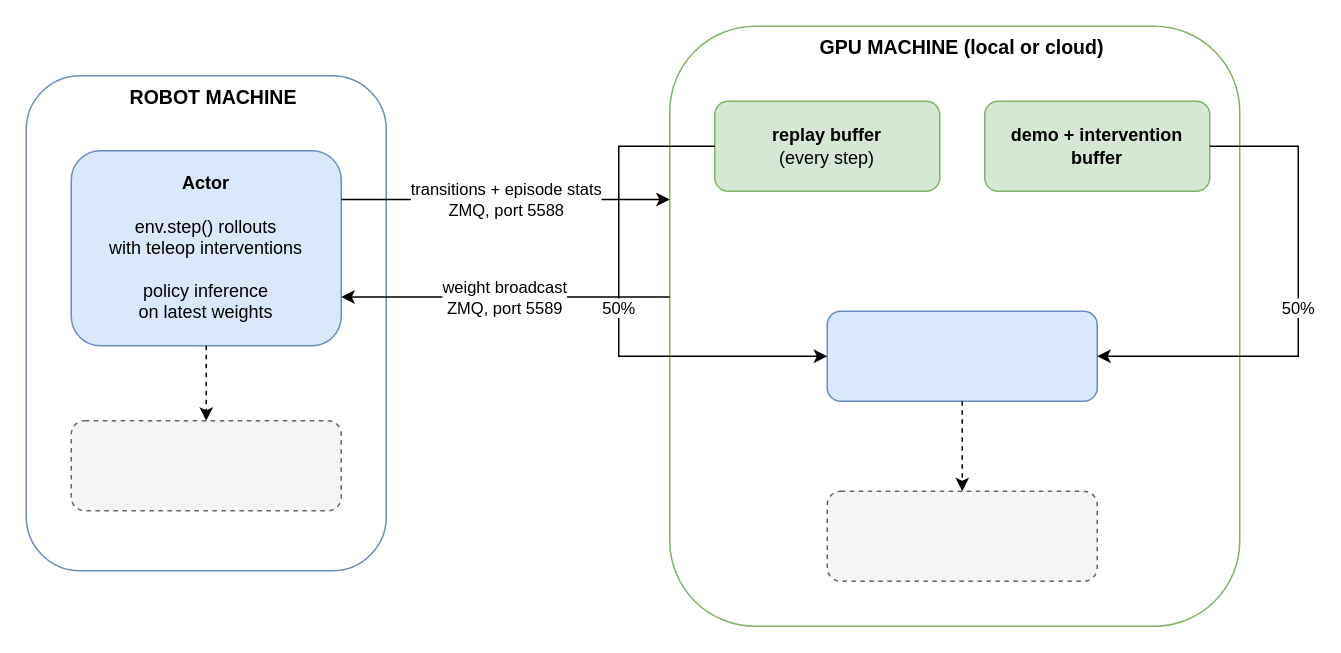
The diagram is 1341 pixels wide and 653 high, and some of its shapes have lost their labels. The shapes that lost their labels are listed below. From the top down, each one's centre as x and y in pixels, then its label:
At [961,355]: "SAC / RLPD updates".
At [205,465]: "optional local actor checkpoints".
At [961,535]: "checkpoints, buffer dumps, metrics CSVs".
